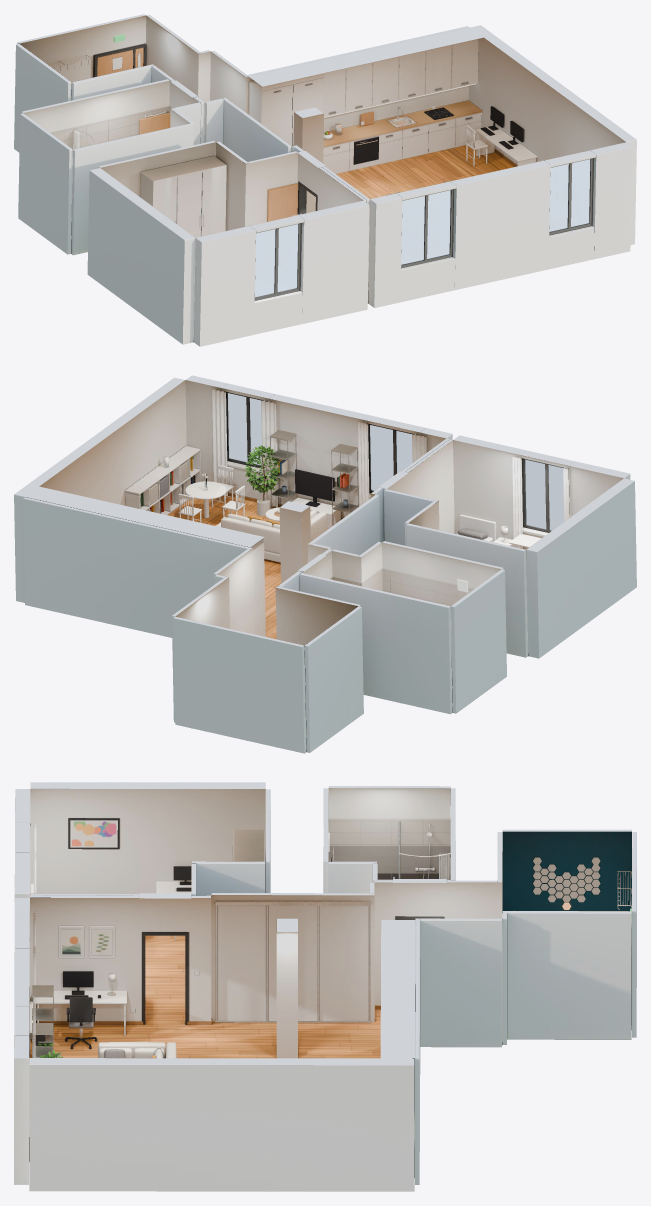
File: flat_baked_no_ceiling_table2_captury.glb
The picture shows the model from 3 angles, top to bottom: view 1: azimuth 30°, elevation 25°; view 2: azimuth 150°, elevation 25°; view 3: azimuth 270°, elevation 25°; orthographic projection. The views are drawn at different scales.
Visible parts, largest first — view 1: zapec_telo_0, zapec_zdi_1, zapec_nabytek_6, zapec_podlahy_2, sklo_okno_67, sklo_okno_111, sklo_okno_74, zapec_nabytek_7; view 2: zapec_telo_0, zapec_zdi_1, zapec_nabytek_6, zapec_zaclony_5, zapec_podlahy_2, sklo_okno_111, sklo_okno_67, sklo_okno_74, zapec_nabytek_7, zapec_listy_4; view 3: zapec_telo_0, zapec_zdi_1, zapec_nabytek_6, zapec_podlahy_2, zapec_nabytek_7, zapec_zaclony_5.
Boxes of the visible parts, box(x1,y1,x2,y2) form: zapec_telo_0: box(14, 14, 636, 346); zapec_zdi_1: box(19, 15, 625, 341); zapec_nabytek_6: box(112, 38, 537, 237); zapec_podlahy_2: box(336, 145, 514, 198); sklo_okno_67: box(401, 190, 450, 264); sklo_okno_111: box(255, 224, 298, 297); sklo_okno_74: box(549, 159, 590, 231); zapec_nabytek_7: box(47, 34, 488, 166); zapec_telo_0: box(14, 375, 636, 753); zapec_zdi_1: box(25, 380, 623, 751); zapec_nabytek_6: box(124, 430, 541, 636); zapec_zaclony_5: box(211, 389, 569, 548); zapec_podlahy_2: box(168, 495, 328, 639); sklo_okno_111: box(525, 459, 564, 530); sklo_okno_67: box(370, 425, 417, 490); sklo_okno_74: box(227, 393, 262, 465); zapec_nabytek_7: box(163, 456, 505, 604); zapec_listy_4: box(245, 445, 280, 492); zapec_telo_0: box(14, 782, 636, 1191); zapec_zdi_1: box(29, 788, 631, 1177); zapec_nabytek_6: box(29, 821, 600, 1058); zapec_podlahy_2: box(30, 935, 380, 1058); zapec_nabytek_7: box(131, 847, 631, 1029); zapec_zaclony_5: box(32, 823, 36, 1057).
Size of the model in its own units: 12.36 by 2.95 by 11.94.
Materials: 9 (7 with a texture image).
